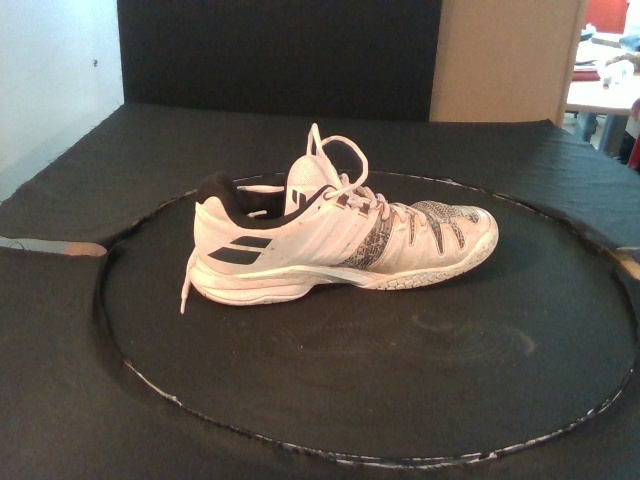shoe: (188, 154, 500, 307)
